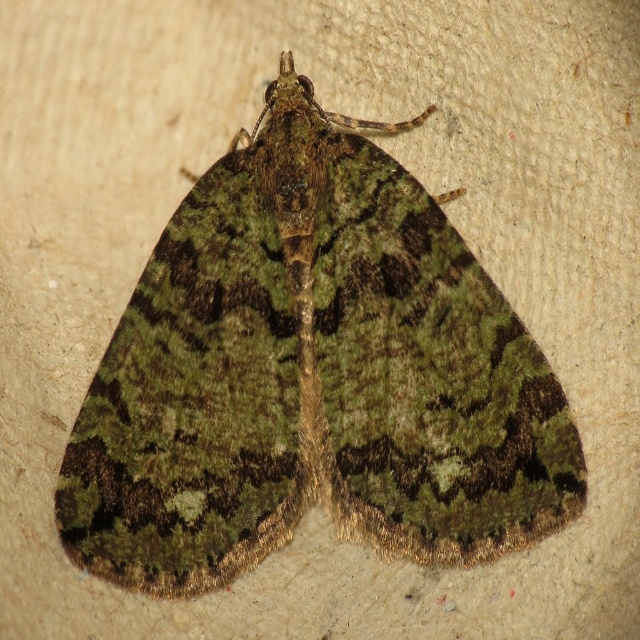Moths and butterflies: (51, 46, 588, 601)
